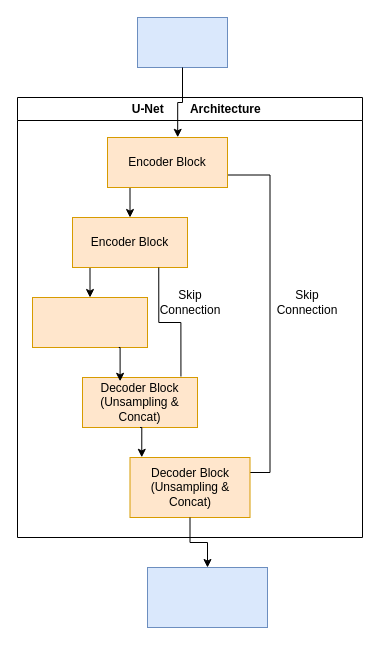
The diagram is 380 pixels wide and 645 high, and some of its shapes have lost their labels. Here are the shapes that lost their labels. From the top down, the centre of each, then its label:
At point 182,42: "Input: CT image".
At point 90,322: "Bottleneck".
At point 207,597: "Output: Segmentation Mask".
